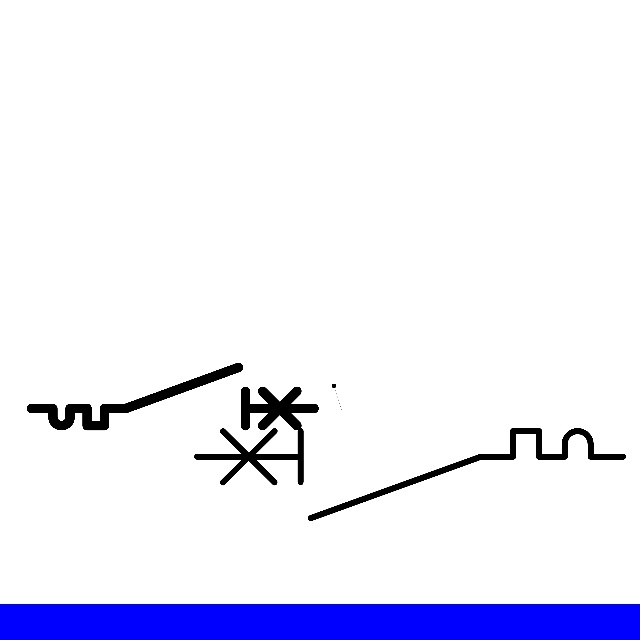interruptor_termomagnetico: (186, 420, 634, 529), (24, 360, 321, 433)
